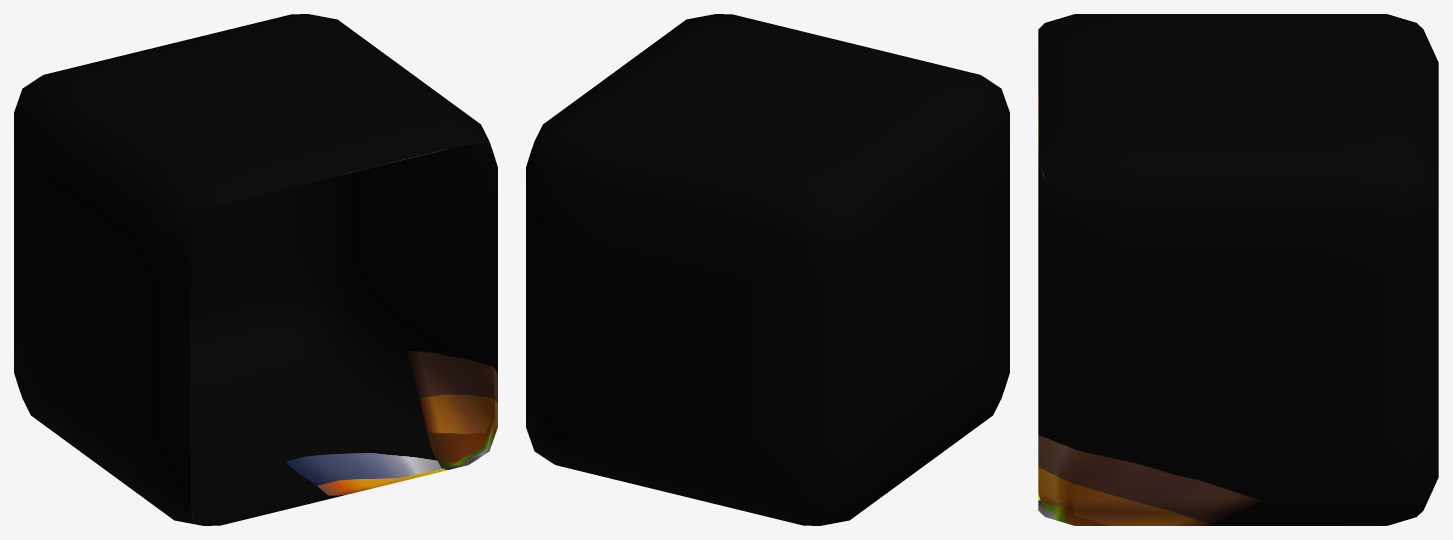
File: slime_block.fbx
3 views of the same model, side by side, from view 1: azimuth 30°, elevation 25°; view 2: azimuth 150°, elevation 25°; view 3: azimuth 270°, elevation 25° (orthographic). The views are drawn at different scales.
Parts seen in each view (by area): view 1: block_spec_mine.002; view 2: block_spec_mine.002; view 3: block_spec_mine.002.
Part boxes in pixels (bbox=[...]): block_spec_mine.002: bbox=[14, 14, 497, 525]; block_spec_mine.002: bbox=[526, 14, 1009, 525]; block_spec_mine.002: bbox=[1038, 14, 1438, 525].
Bounding box in the file's own units: 200 × 200 × 193.
